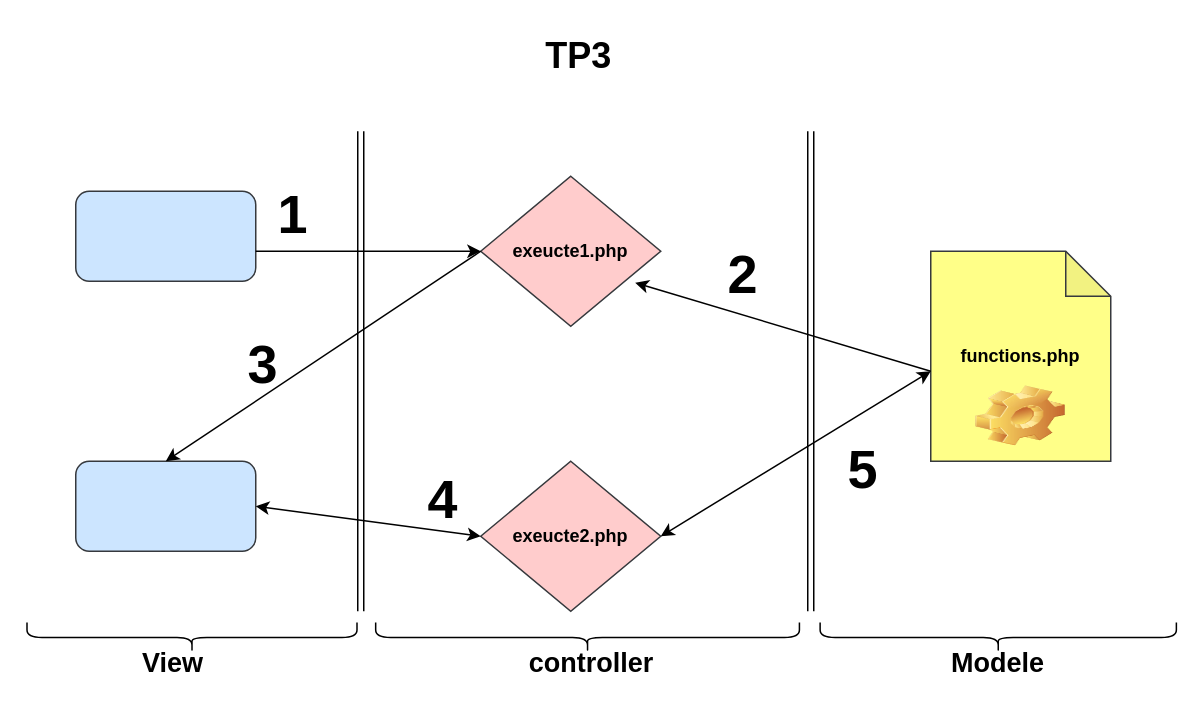
Image size: 1203x711. Some labels were removed from this diagram. Each missing label, with the box of its shape:
affichage.php: (74, 460, 256, 551)
index.php: (74, 190, 256, 281)
